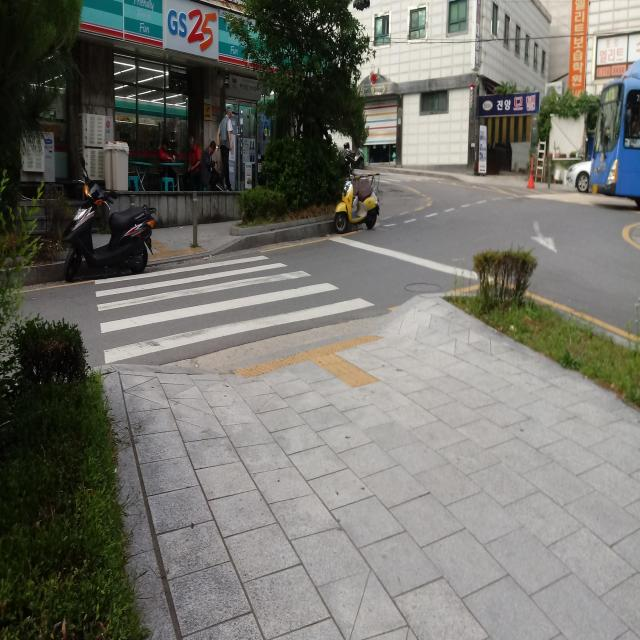횡단보도: (93, 252, 376, 366)
